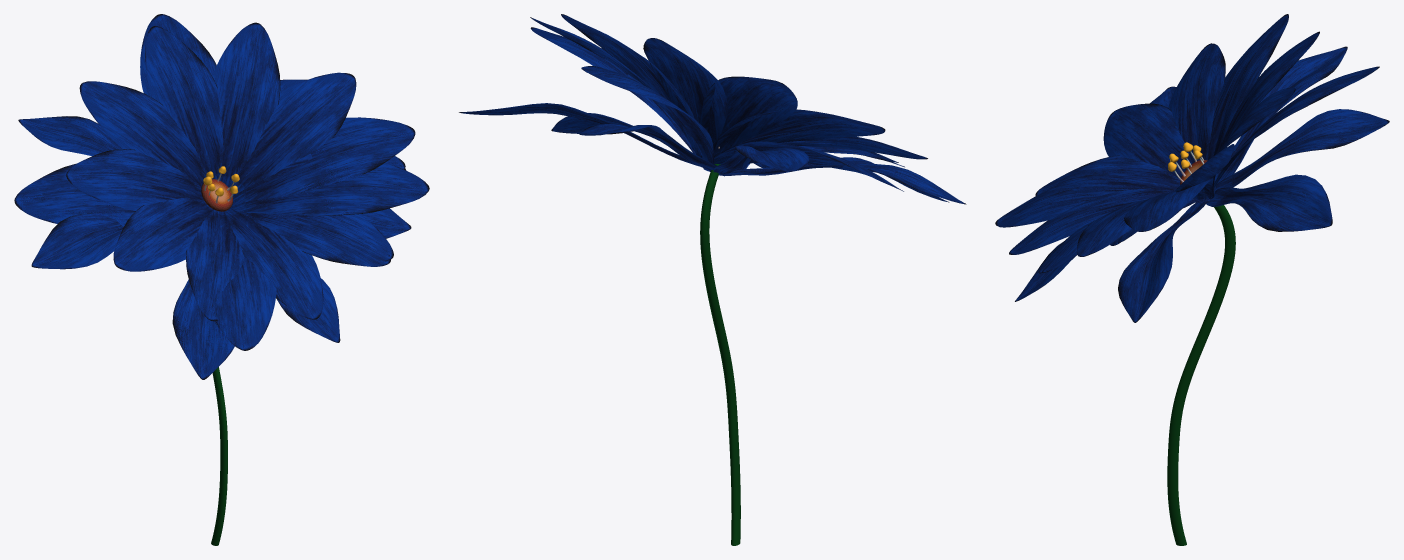
The model's file is wildflower-transformed.glb.
3 views of the same model, side by side, from view 1: azimuth 30°, elevation 25°; view 2: azimuth 150°, elevation 25°; view 3: azimuth 270°, elevation 25° (orthographic). The views are drawn at different scales.
Parts seen in each view (by area): view 1: petal_proto2.obj, nurbsToPoly1.001, stamendisk_proto_v1.obj, stamen_proto_2.obj; view 2: petal_proto2.obj, nurbsToPoly1.001; view 3: petal_proto2.obj, nurbsToPoly1.001, stamen_proto_2.obj.
Part boxes in pixels (left/top/right/bottom): petal_proto2.obj: left=14, top=14, right=429, bottom=379; nurbsToPoly1.001: left=211, top=367, right=227, bottom=545; stamendisk_proto_v1.obj: left=201, top=179, right=232, bottom=211; stamen_proto_2.obj: left=203, top=166, right=239, bottom=203; petal_proto2.obj: left=459, top=14, right=966, bottom=204; nurbsToPoly1.001: left=700, top=164, right=740, bottom=545; petal_proto2.obj: left=995, top=14, right=1389, bottom=322; nurbsToPoly1.001: left=1167, top=205, right=1235, bottom=545; stamen_proto_2.obj: left=1168, top=142, right=1204, bottom=182.
Size of the model in its own units: 6.16 by 7.41 by 5.16.
4 materials, 3 textured.
